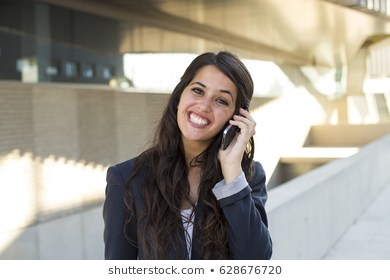phone: (221, 105, 257, 150)
talk: (177, 80, 263, 168)
